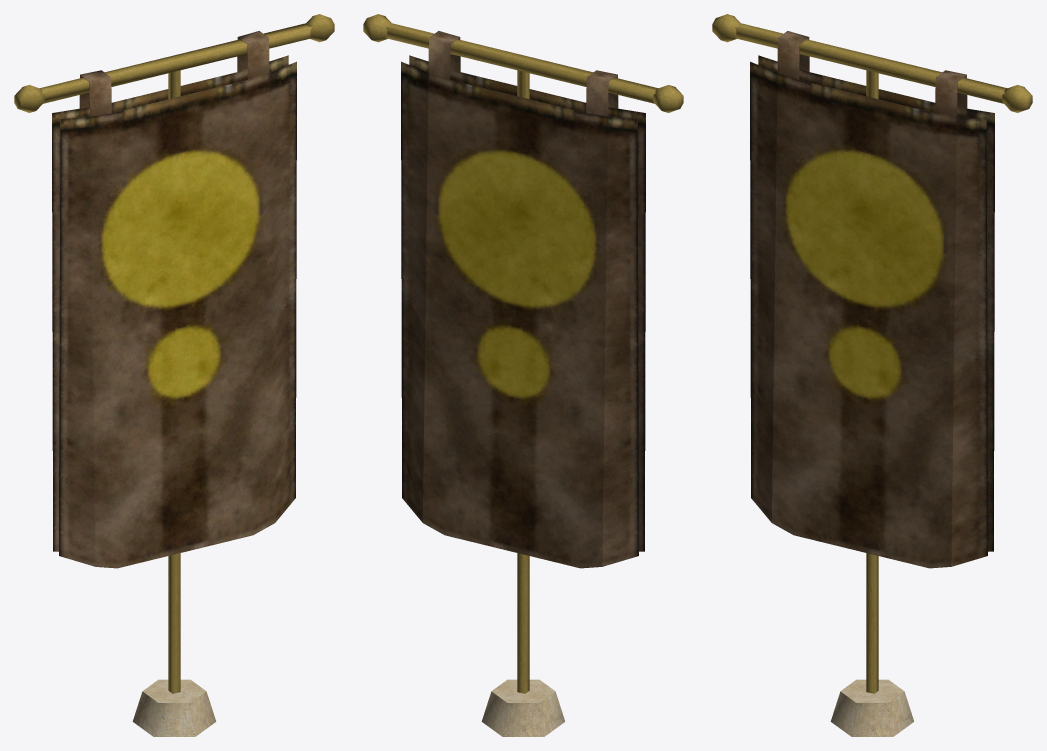
The model's file is thm_all_tato_banner_freestand_s01_l2.fbx.
3 renders of one model, left to right at view 1: azimuth 30°, elevation 25°; view 2: azimuth 150°, elevation 25°; view 3: azimuth 330°, elevation 25°, orthographic.
Visible parts, largest first — view 1: mesh_node; view 2: mesh_node; view 3: mesh_node.
Boxes of the visible parts, bbox=[...] form: mesh_node: bbox=[14, 14, 334, 736]; mesh_node: bbox=[363, 14, 683, 736]; mesh_node: bbox=[712, 14, 1032, 736].
Bounding box in the file's own units: 2.16 × 4.43 × 0.5.
